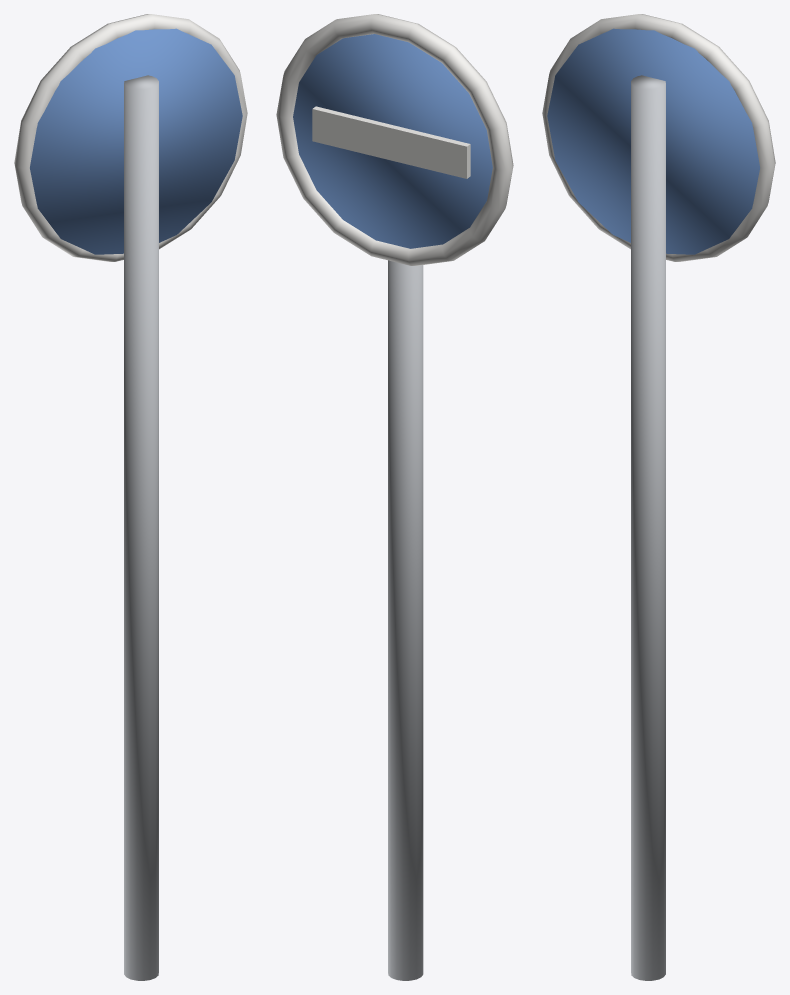
File: prop_hyoushiki.glb
3 views of the same model, side by side, from view 1: azimuth 30°, elevation 25°; view 2: azimuth 150°, elevation 25°; view 3: azimuth 330°, elevation 25° (orthographic).
Visible parts, largest first — view 1: hyoushiki; view 2: hyoushiki; view 3: hyoushiki.
Part boxes in pixels (x1,y1,x2,y2): hyoushiki: (14,14,247,980); hyoushiki: (276,14,513,980); hyoushiki: (542,14,775,980).
Size of the model in its own units: 0.76 by 2.97 by 0.14.
